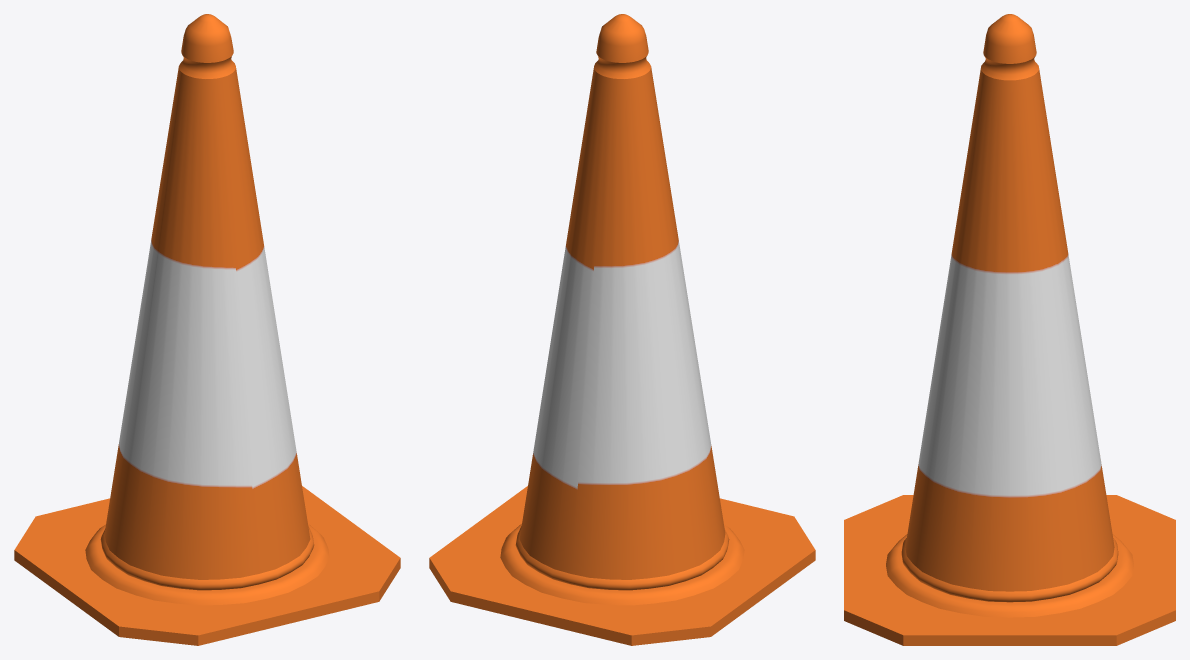
Rendered from conoo.fbx.
The picture shows the model from 3 angles, left to right: view 1: azimuth 30°, elevation 25°; view 2: azimuth 150°, elevation 25°; view 3: azimuth 270°, elevation 25°; orthographic projection. The views are drawn at different scales.
Parts seen in each view (by area): view 1: cono:Mesh; view 2: cono:Mesh; view 3: cono:Mesh.
Boxes of the visible parts, <box> form: cono:Mesh: <box>14,14,400,645</box>; cono:Mesh: <box>429,14,815,645</box>; cono:Mesh: <box>844,14,1175,645</box>.
Bounding box in the file's own units: 4.37 × 8.15 × 4.37.
